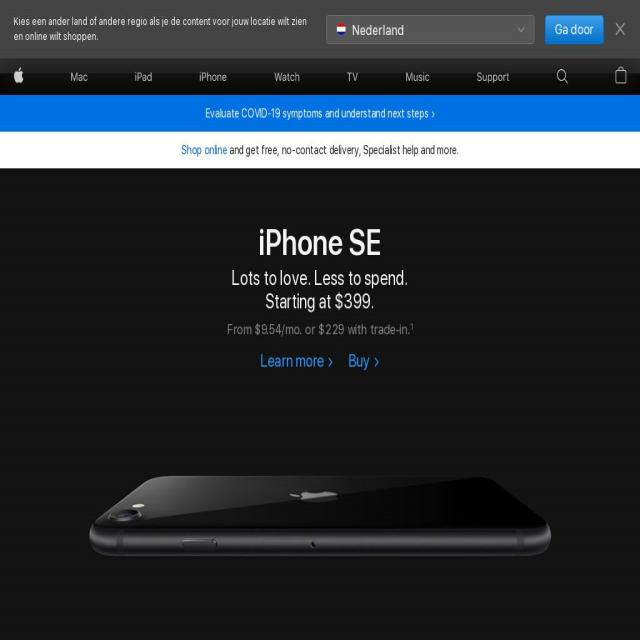buy-option: (345, 338, 390, 382)
language: (324, 10, 628, 48)
navigation-links: (59, 60, 520, 88)
search: (546, 60, 578, 87)
